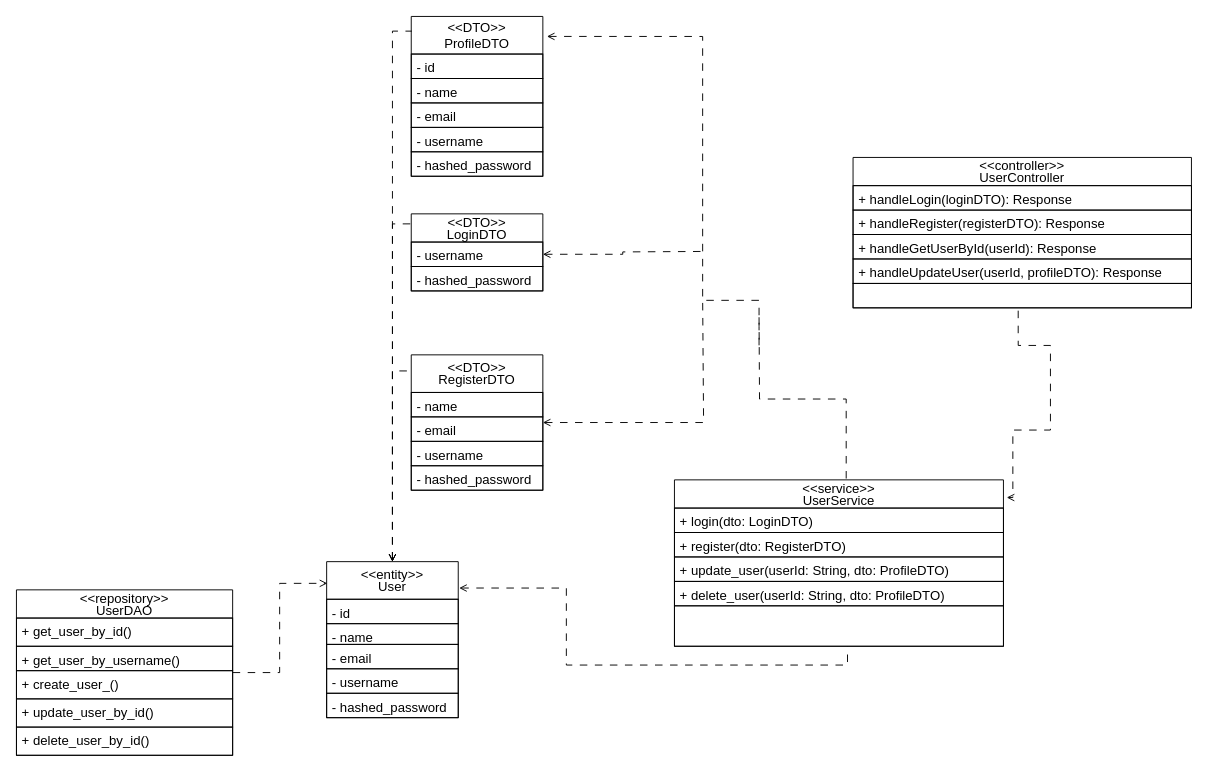
The diagram is 1208 pixels wide and 775 high, and some of its shapes have lost their labels. The centre of each missing label's shape, as x and y in pixels:
"+ get_user(userId: String, dto: ProfileDTO)" belongs at (x=838, y=625).
"+ handleDeleteUser(userId): Response" belongs at (x=1021, y=295).
